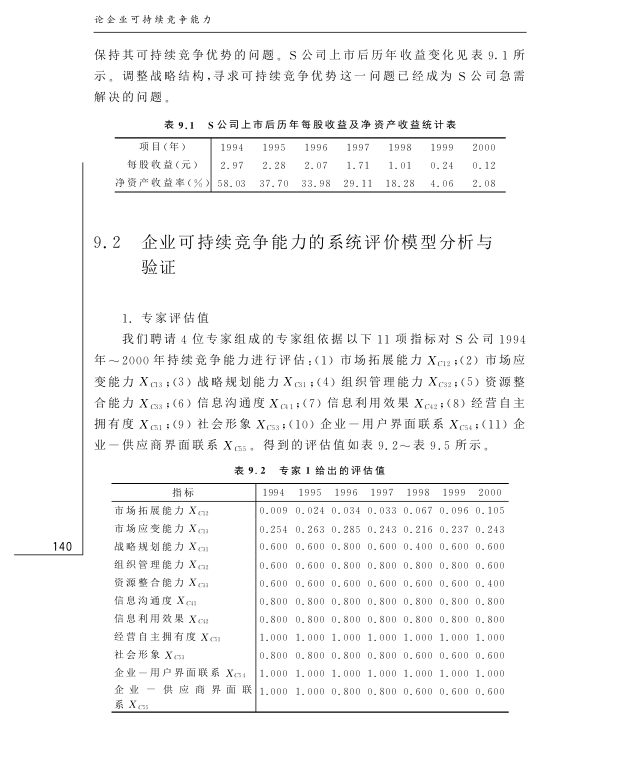table: (111, 483, 507, 712), (114, 137, 505, 193)
